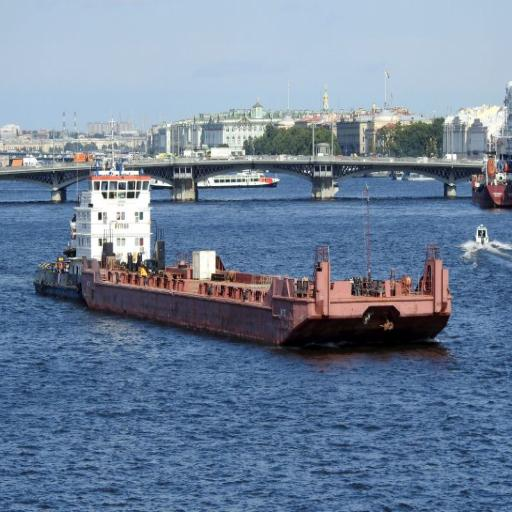tugboat: (33, 162, 172, 309)
